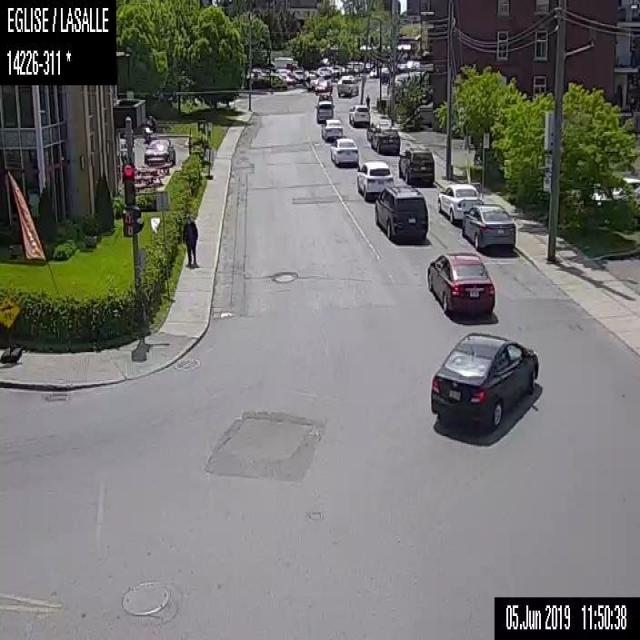pedestrian: (180, 211, 198, 268), (365, 92, 371, 108)
vehicle: (428, 329, 538, 431), (426, 250, 495, 315), (373, 185, 429, 241), (459, 201, 516, 251), (435, 181, 481, 221), (396, 144, 435, 184), (355, 158, 393, 198), (142, 137, 175, 166), (371, 124, 399, 154), (329, 136, 358, 164), (312, 100, 335, 123), (336, 73, 358, 97), (320, 118, 342, 140), (348, 104, 369, 125), (143, 114, 157, 143), (313, 78, 332, 92)
